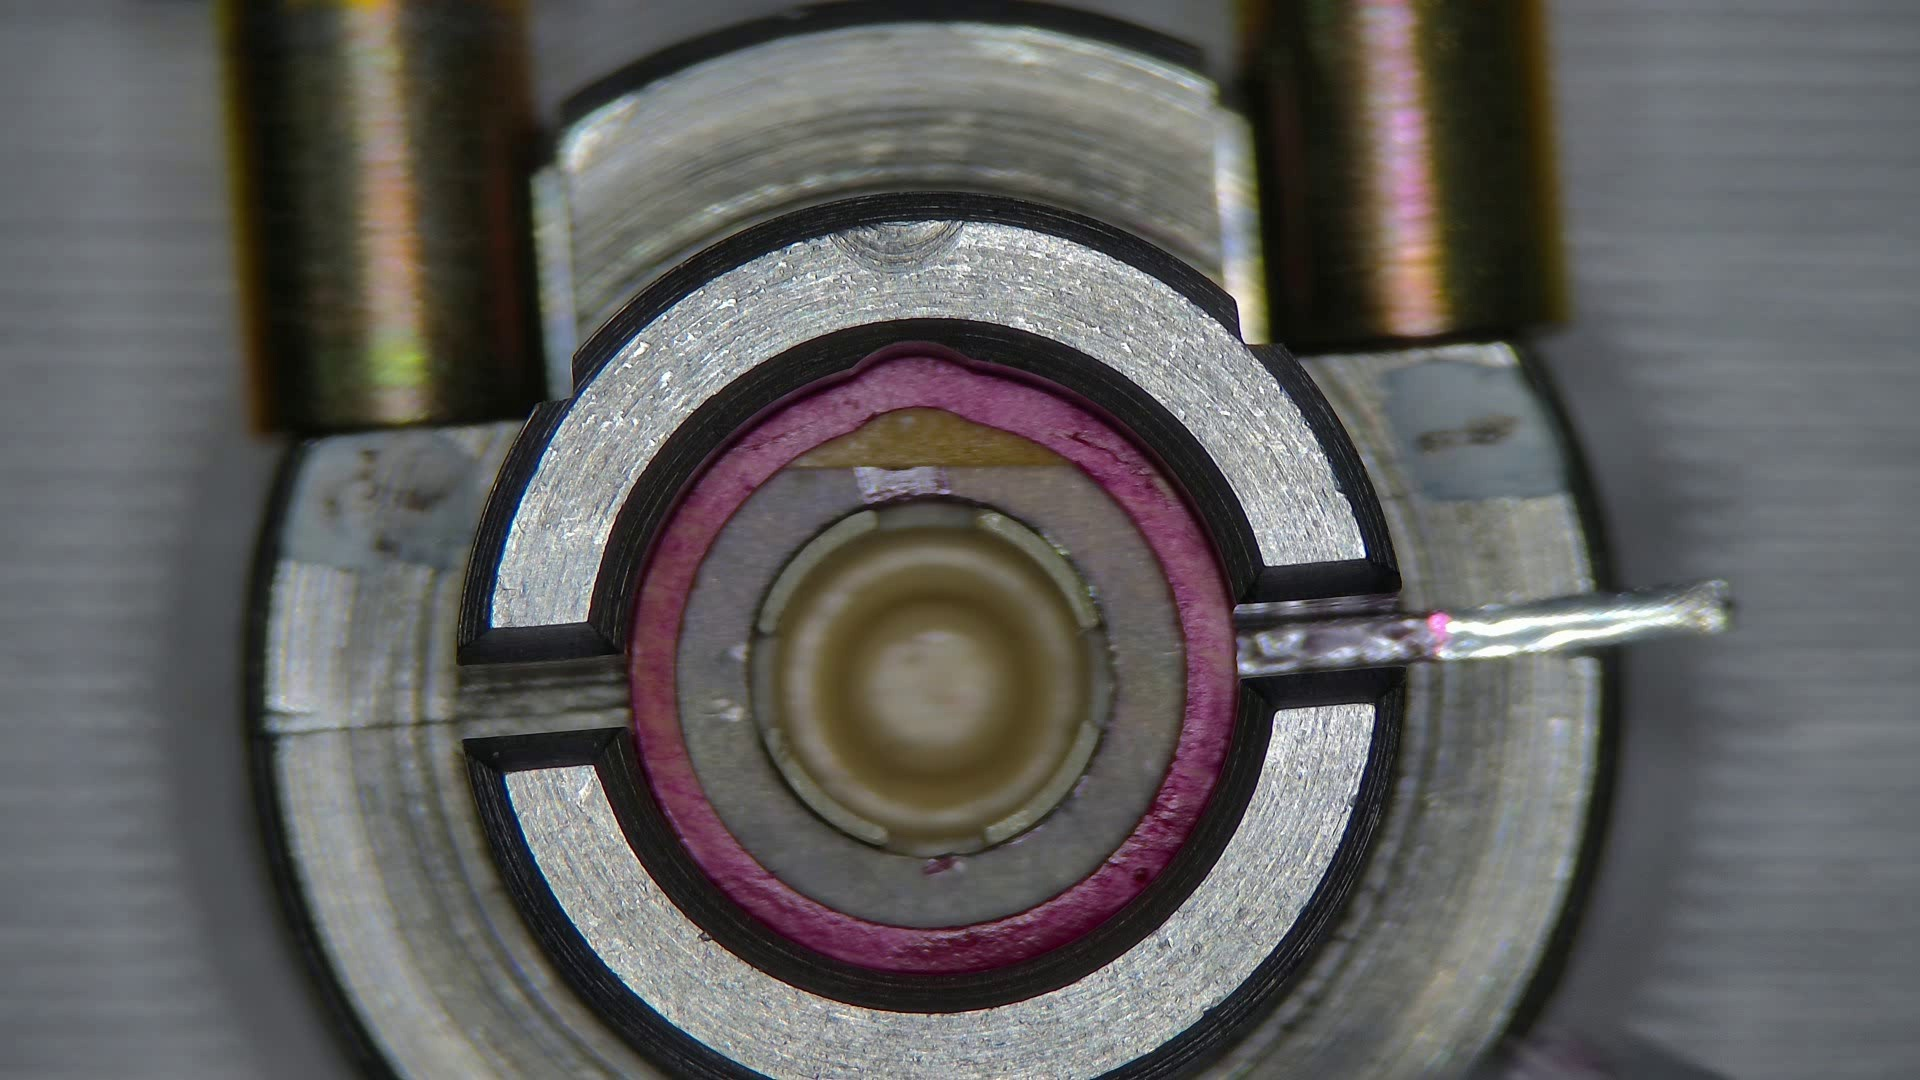GreyOring: (629, 355, 1236, 973)
YellowOring: (676, 464, 1185, 926)
redOring: (785, 402, 1058, 468)
